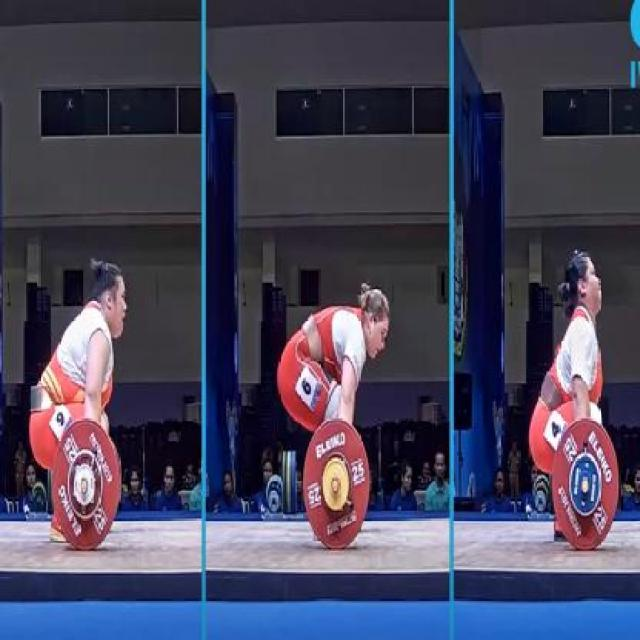Barbell: (74, 458, 98, 508), (582, 458, 596, 510), (324, 474, 346, 498)
